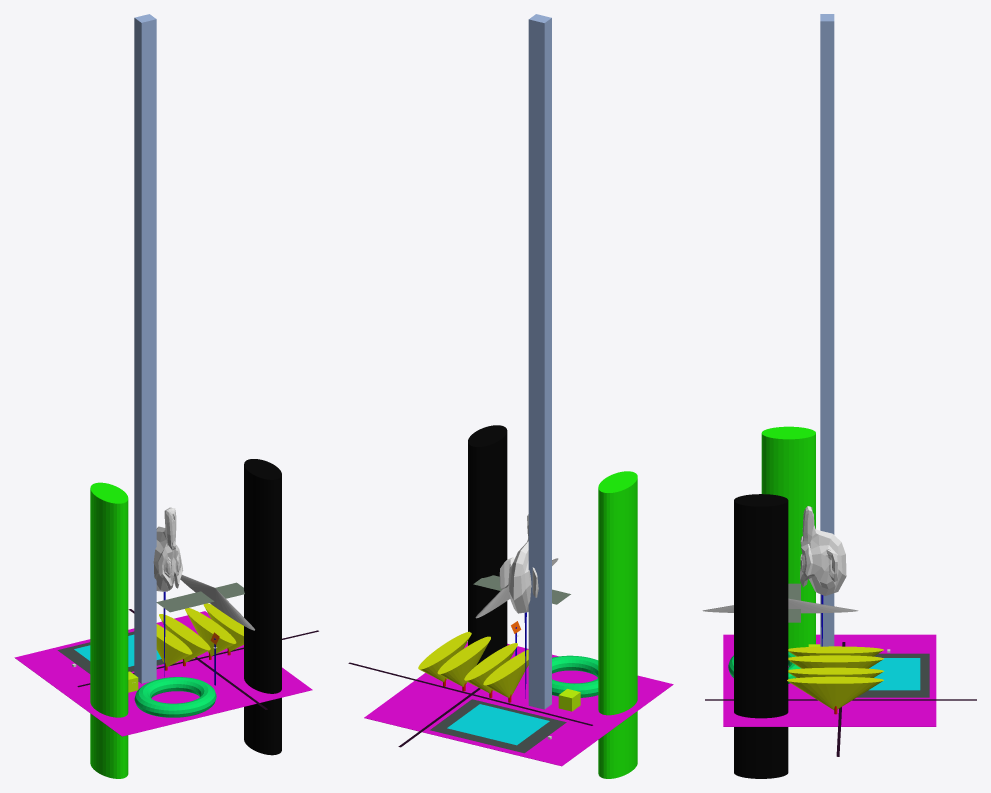
Rendered from amayaCITY.glb.
3 renders of one model, left to right at view 1: azimuth 30°, elevation 25°; view 2: azimuth 150°, elevation 25°; view 3: azimuth 270°, elevation 25°, orthographic. The views are drawn at different scales.
Visible parts, largest first — view 1: Cube.001, Cylinder.002, Cylinder.006, Cube, Cylinder.001, Suzanne, Cylinder.004, Plane.004, Cone.002, Cylinder.003, Cylinder, Cylinder.005 (+1 smaller); view 2: Cube.001, Cylinder.002, Cube, Cylinder.006, Plane, Plane.005, Suzanne, Cylinder.001, Cylinder.004, Cylinder, Cylinder.005, Cylinder.003; view 3: Cylinder.006, Cube.001, Cube, Cylinder.002, Suzanne, Cylinder.005, Plane, Plane.005, Cylinder.003, Cylinder, Cylinder.004, Cone.002.
Boxes of the visible parts, x1=… form: Cube.001: x1=134, y1=14, x2=156, y2=683; Cylinder.002: x1=90, y1=482, x2=128, y2=778; Cylinder.006: x1=244, y1=459, x2=281, y2=755; Cube: x1=14, y1=611, x2=312, y2=736; Cylinder.001: x1=134, y1=632, x2=219, y2=717; Suzanne: x1=153, y1=507, x2=182, y2=591; Cylinder.004: x1=185, y1=608, x2=236, y2=659; Plane.004: x1=156, y1=582, x2=244, y2=612; Cone.002: x1=180, y1=575, x2=254, y2=630; Cylinder.003: x1=159, y1=614, x2=210, y2=666; Cylinder: x1=156, y1=624, x2=192, y2=670; Cylinder.005: x1=203, y1=603, x2=243, y2=655; Cube.001: x1=528, y1=14, x2=551, y2=709; Cylinder.002: x1=598, y1=471, x2=637, y2=778; Cube: x1=364, y1=642, x2=673, y2=766; Cylinder.006: x1=468, y1=425, x2=507, y2=664; Plane: x1=447, y1=704, x2=549, y2=745; Plane.005: x1=430, y1=699, x2=566, y2=753; Suzanne: x1=499, y1=514, x2=538, y2=613; Cylinder.001: x1=511, y1=621, x2=598, y2=697; Cylinder.004: x1=437, y1=636, x2=490, y2=691; Cylinder: x1=483, y1=649, x2=528, y2=702; Cylinder.005: x1=418, y1=631, x2=471, y2=686; Cylinder.003: x1=464, y1=643, x2=517, y2=697; Cylinder.006: x1=734, y1=494, x2=788, y2=778; Cube.001: x1=820, y1=14, x2=834, y2=646; Cube: x1=723, y1=634, x2=936, y2=726; Cylinder.002: x1=761, y1=426, x2=815, y2=648; Suzanne: x1=800, y1=506, x2=846, y2=595; Cylinder.005: x1=787, y1=676, x2=883, y2=714; Plane: x1=869, y1=658, x2=920, y2=690; Plane.005: x1=857, y1=653, x2=929, y2=697; Cylinder.003: x1=788, y1=655, x2=883, y2=668; Cylinder: x1=788, y1=646, x2=883, y2=656; Cylinder.004: x1=788, y1=667, x2=883, y2=677; Cone.002: x1=702, y1=598, x2=858, y2=613.
Size of the model in its own units: 196 by 532 by 185.
